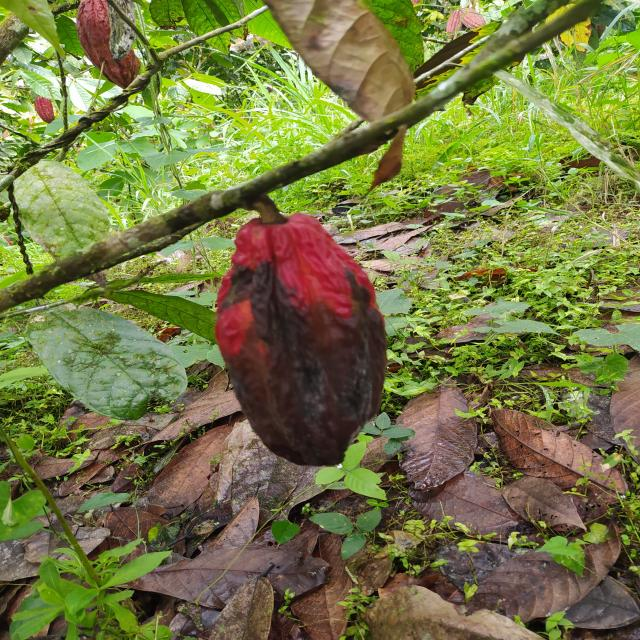Fitoftora: (212, 212, 388, 467), (108, 1, 137, 61)
Sana: (77, 0, 142, 91), (34, 95, 56, 124)
